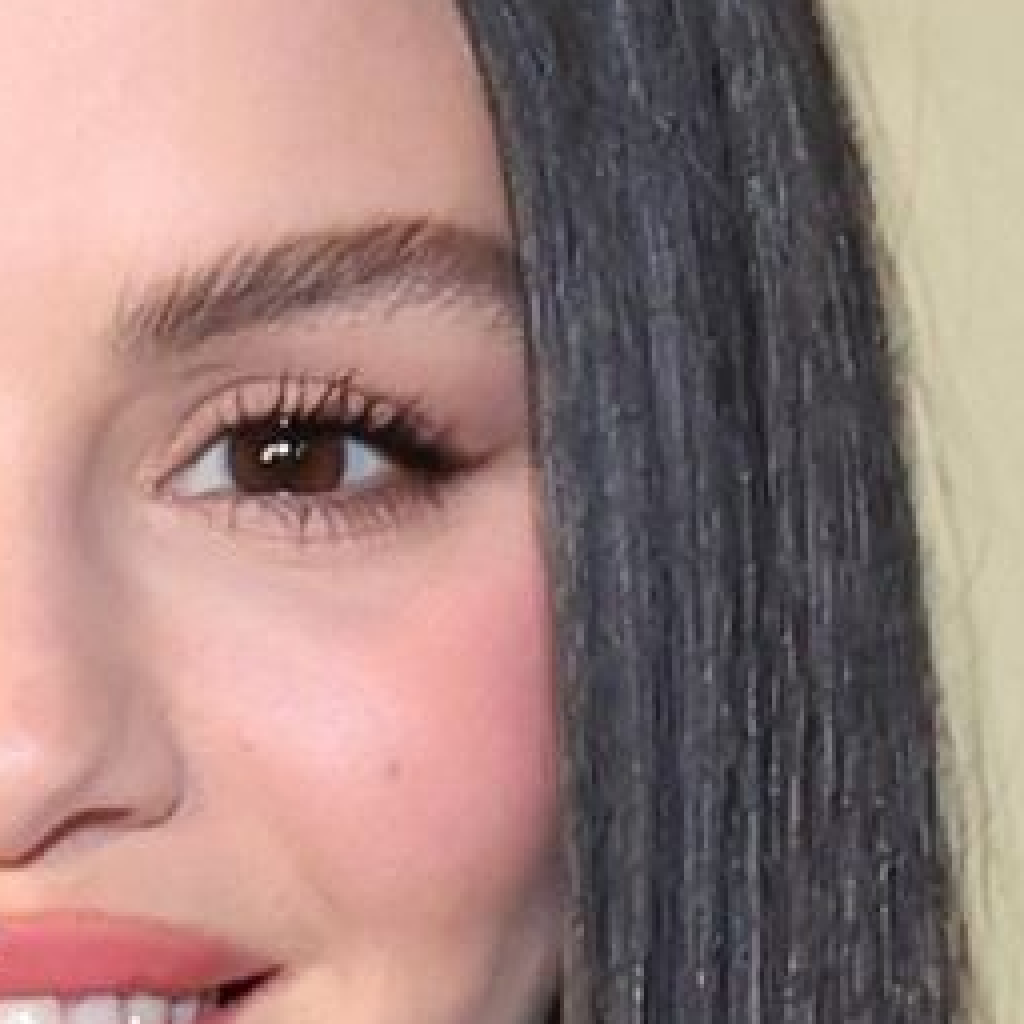iris: (228, 426, 347, 494)
pupil: (262, 433, 307, 469)
sclera: (158, 434, 234, 497), (343, 437, 398, 488)
